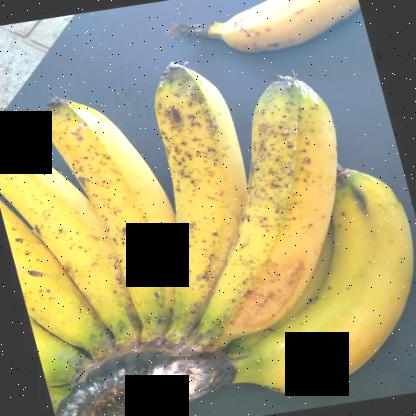ripe: (238, 159, 415, 389), (199, 77, 336, 357), (34, 81, 172, 352), (139, 56, 249, 344), (4, 128, 119, 388)
